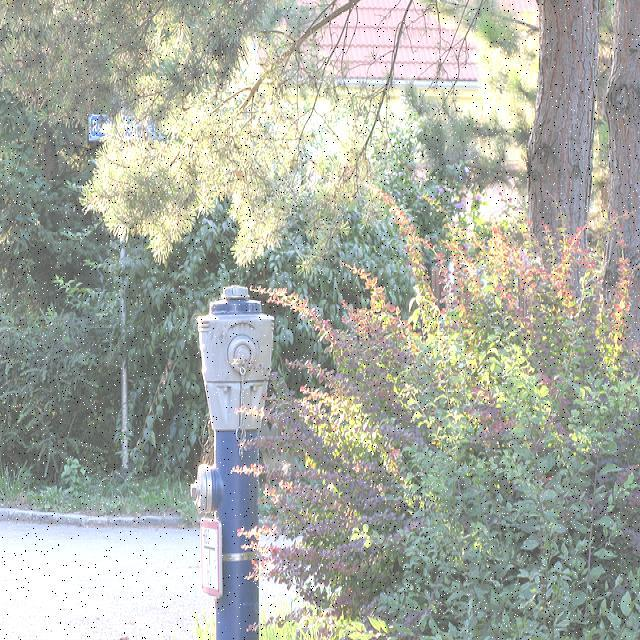fire_hydrant: (190, 285, 273, 639)
